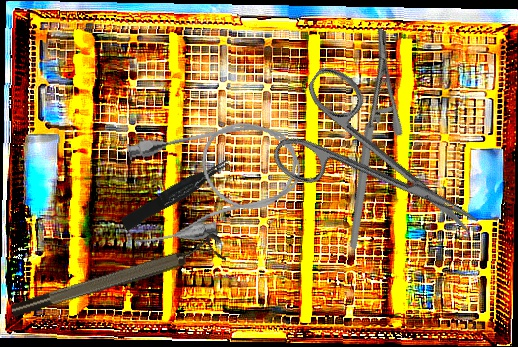Cannula: (113, 107, 312, 254)
Fixation Ring: (6, 230, 227, 322)
Iris Scissors: (259, 60, 505, 279)
Needle Holder: (282, 26, 452, 251)
Tissue Forceps: (118, 156, 235, 232)
